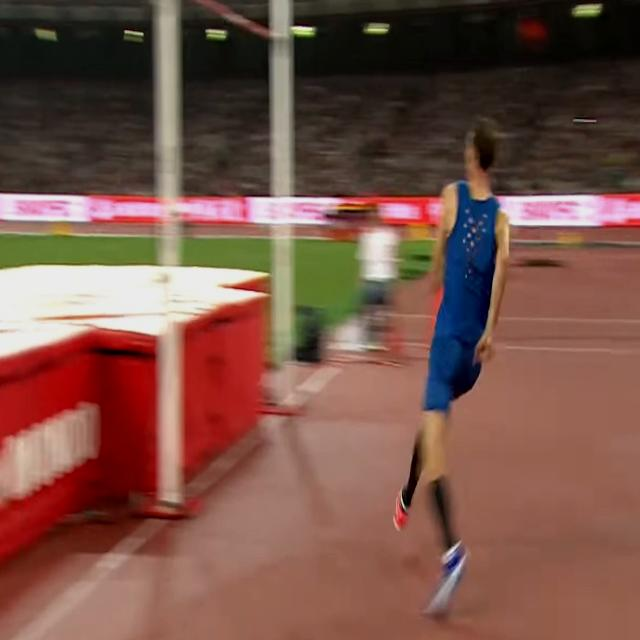run: (393, 118, 510, 620)
